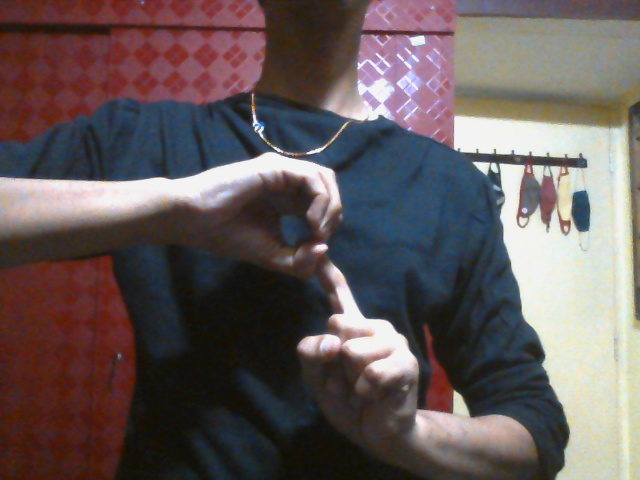Q: (189, 153, 419, 449)
